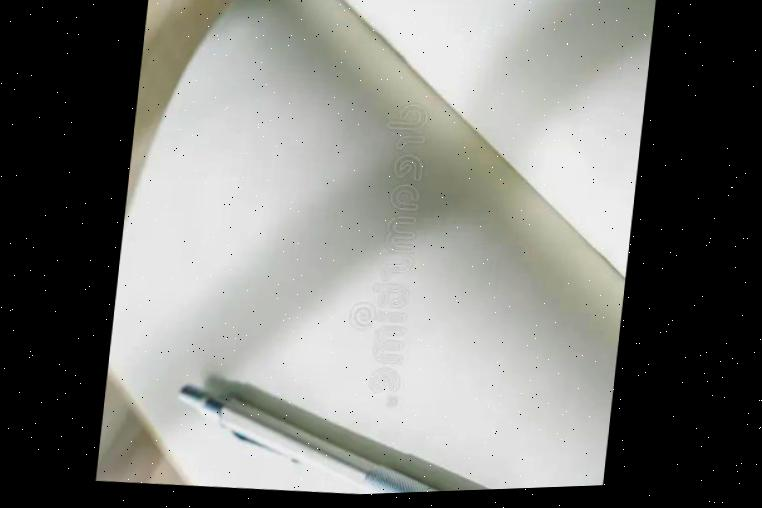pen-pencil: (180, 385, 448, 494)
